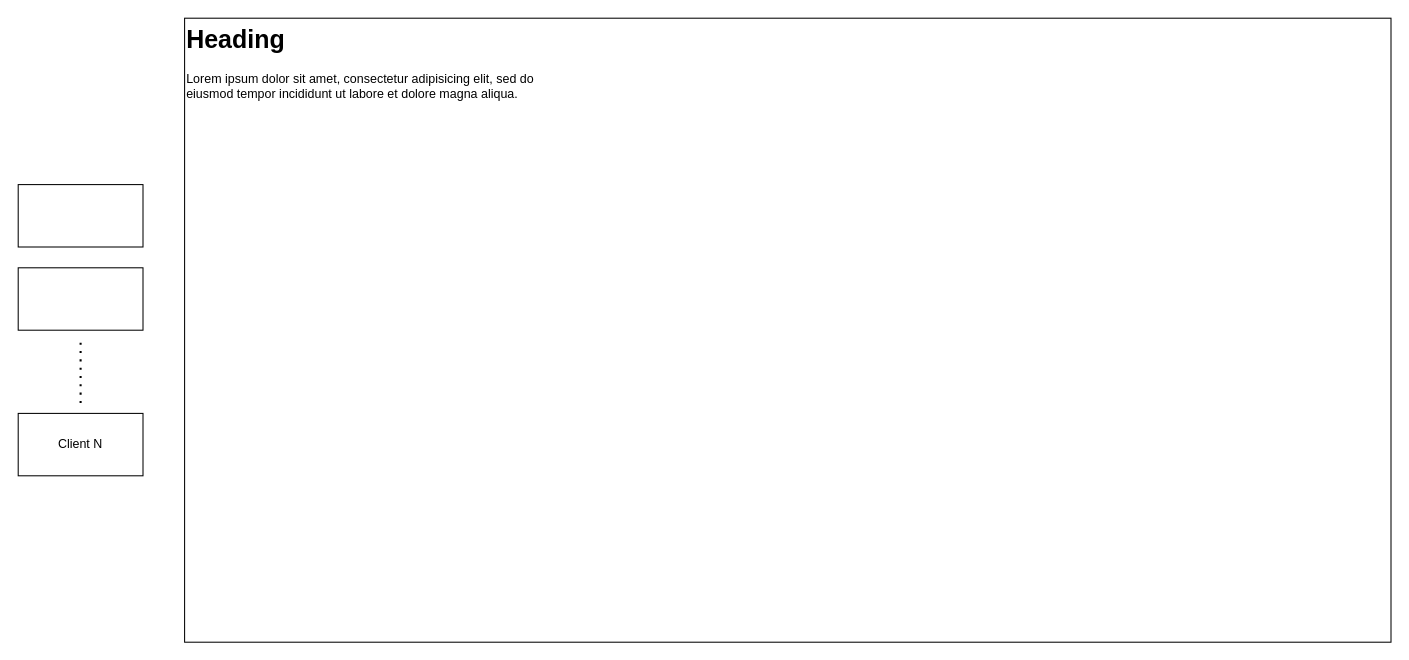
The diagram is 1409 pixels wide and 660 high, and some of its shapes have lost their labels. Here are the shapes that lost their labels. From the top down, the box of each, then its label:
(17, 184, 143, 247): Client 1
(17, 267, 143, 330): Client 2
